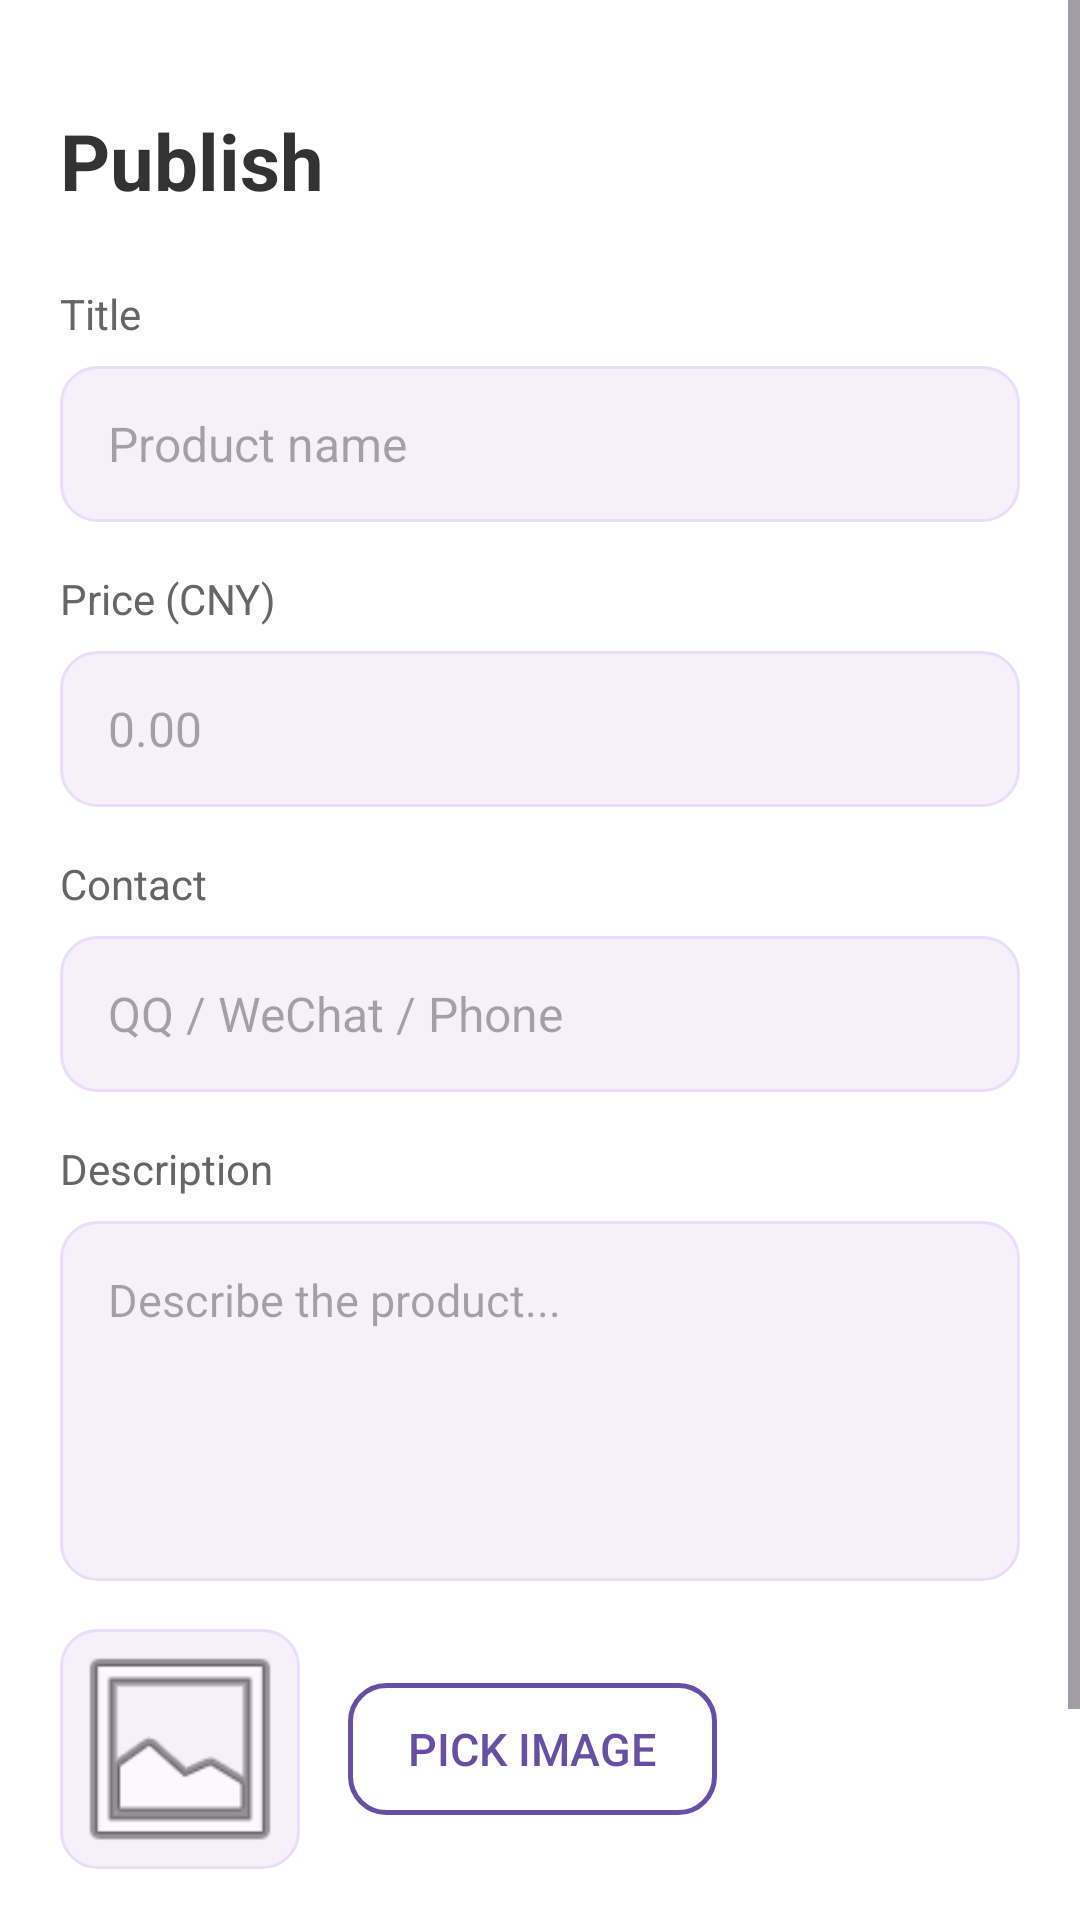

Screen size 1080px×1920px. Icon name, then its box in pixels as box=[x1, y1, x2, y2]:
gallery: box=[60, 1629, 300, 1869]
